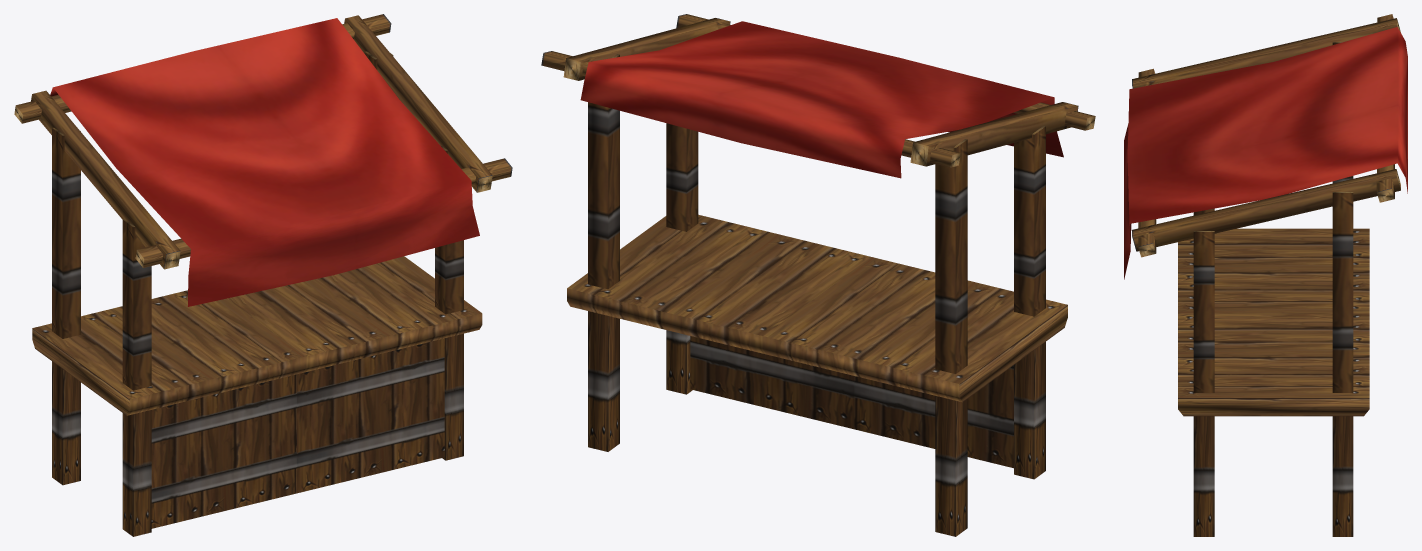
File: MarketPlace01B.fbx
3 renders of one model, left to right at view 1: azimuth 30°, elevation 25°; view 2: azimuth 150°, elevation 25°; view 3: azimuth 270°, elevation 25°, orthographic. The views are drawn at different scales.
Parts seen in each view (by area): view 1: MarketPlace01B; view 2: MarketPlace01B; view 3: MarketPlace01B.
Part boxes in pixels (x1=…): MarketPlace01B: x1=14, y1=14, x2=512, y2=536; MarketPlace01B: x1=541, y1=14, x2=1095, y2=536; MarketPlace01B: x1=1124, y1=14, x2=1407, y2=536.
Size of the model in its own units: 5.97 by 5.73 by 4.05.
